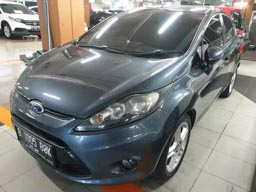plat: (14, 126, 53, 166)
